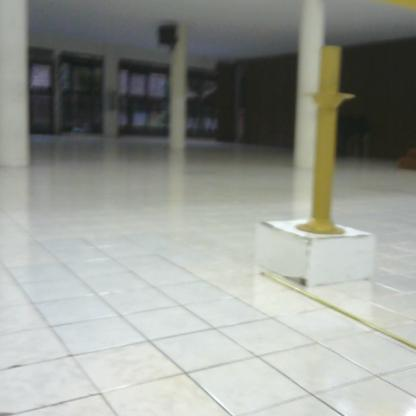pole: (294, 37, 360, 245)
